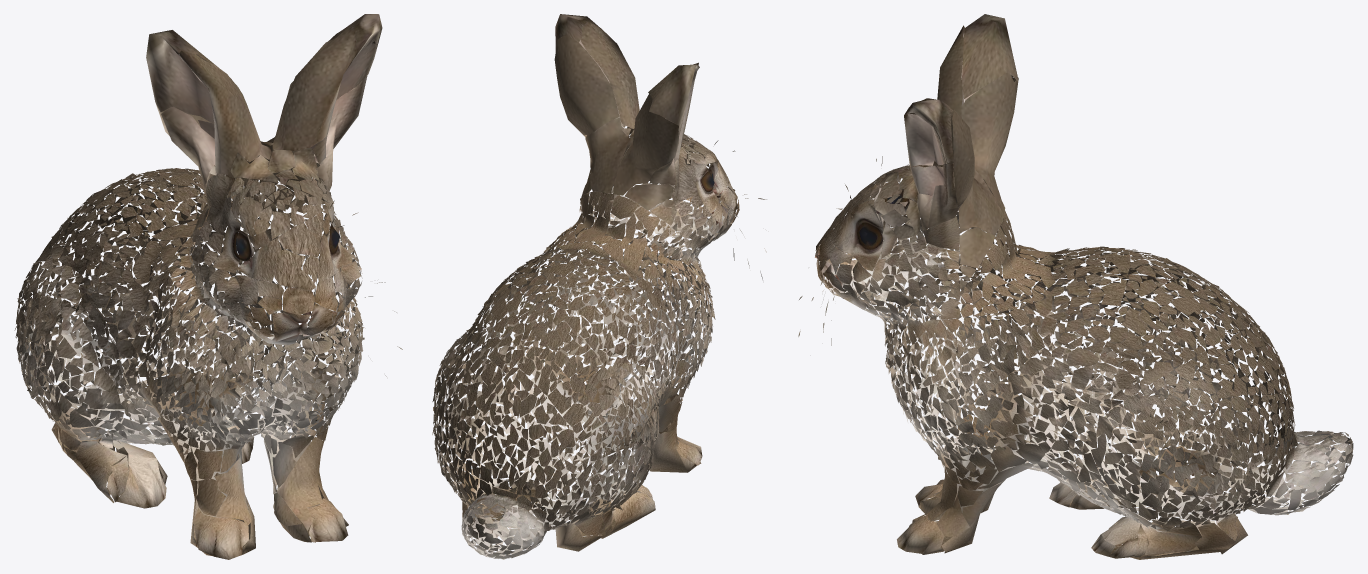
File: rabbit.glb
3 views of the same model, side by side, from view 1: azimuth 30°, elevation 25°; view 2: azimuth 150°, elevation 25°; view 3: azimuth 270°, elevation 25° (orthographic). The views are drawn at different scales.
Parts seen in each view (by area): view 1: Mesh_0; view 2: Mesh_0; view 3: Mesh_0.
Boxes of the visible parts, x1=… form: Mesh_0: x1=14, y1=14, x2=402, y2=559; Mesh_0: x1=432, y1=14, x2=766, y2=559; Mesh_0: x1=798, y1=14, x2=1353, y2=559.
Size of the model in its own units: 0.9058 by 1.78 by 1.88.
Materials: 1 (1 with a texture image).
